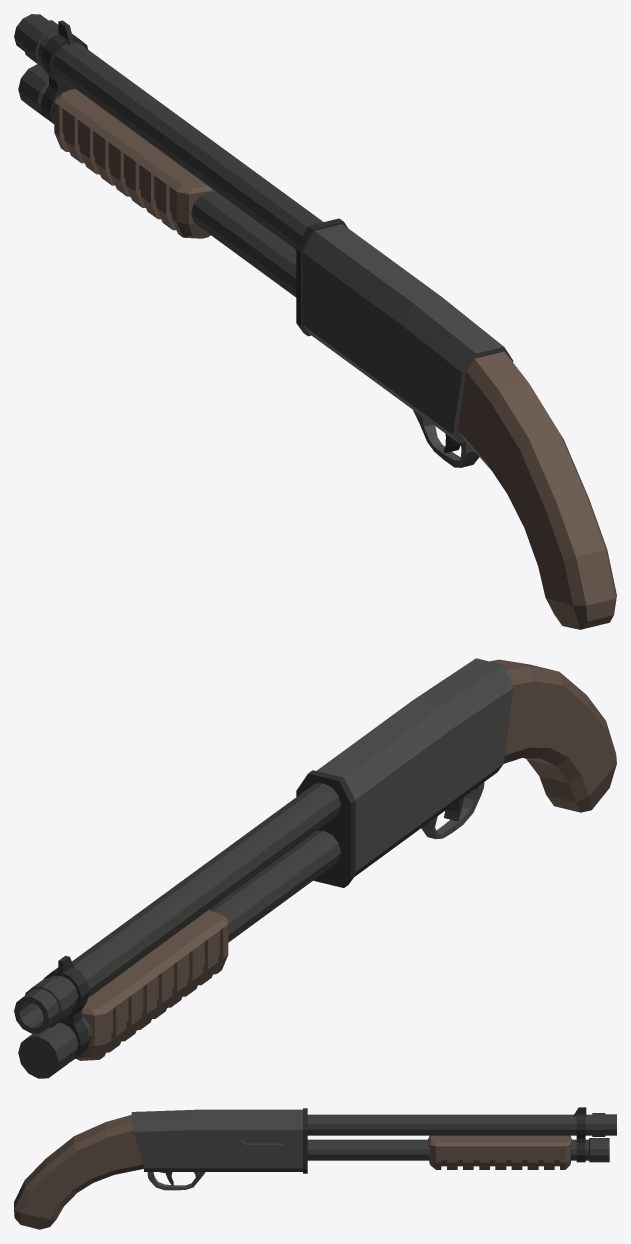
Rendered from shotgun.glb.
3 renders of one model, top to bottom at view 1: azimuth 30°, elevation 25°; view 2: azimuth 150°, elevation 25°; view 3: azimuth 270°, elevation 25°, orthographic. The views are drawn at different scales.
Visible parts, largest first — view 1: Shotgun_ShortStock; view 2: Shotgun_ShortStock; view 3: Shotgun_ShortStock.
Part boxes in pixels (<box>): Shotgun_ShortStock: <box>14,14,616,629</box>; Shotgun_ShortStock: <box>14,658,616,1078</box>; Shotgun_ShortStock: <box>14,1107,616,1229</box>.
Size of the model in its own units: 0.0429 by 0.1682 by 0.778.
